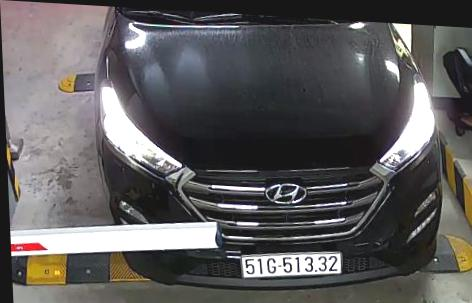License_Plate: (234, 243, 347, 284)
